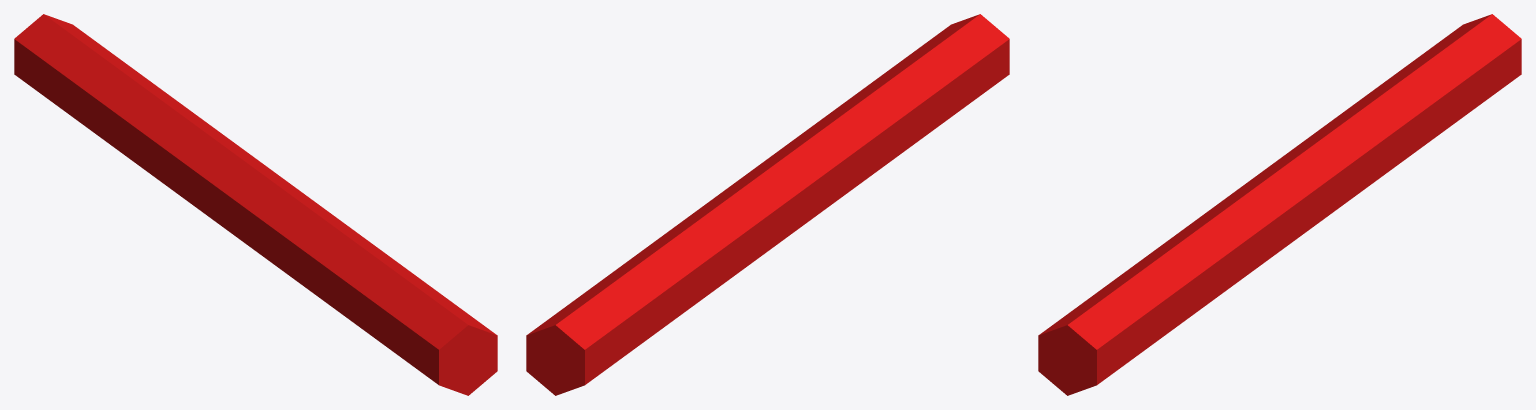
The model's file is ketchup_hotdog.fbx.
3 views of the same model, side by side, from view 1: azimuth 30°, elevation 25°; view 2: azimuth 150°, elevation 25°; view 3: azimuth 330°, elevation 25° (orthographic).
Visible parts, largest first — view 1: ketchup_hotdog; view 2: ketchup_hotdog; view 3: ketchup_hotdog.
Part boxes in pixels (<box>): ketchup_hotdog: <box>14,14,497,395</box>; ketchup_hotdog: <box>526,14,1009,395</box>; ketchup_hotdog: <box>1038,14,1521,395</box>.
Size of the model in its own units: 1.17 by 1.35 by 14.68.
